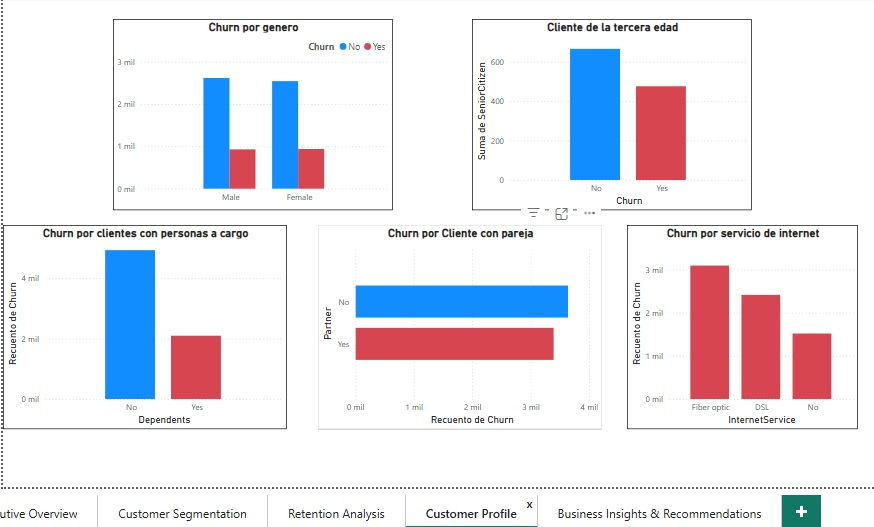

The page's visual inventory and layout, read from the dashboard file:
{"tool":"powerbi","page":{"name":"Customer Profile","canvas":[1280,720],"ordinal":3},"visuals":[{"type":"clusteredColumnChart","title":"Churn por genero","fields":{"Category":["churn_limpio.gender"],"Series":["churn_limpio.Churn"],"Y":["CountNonNull(churn_limpio.customerID)"]},"box":[161.6,32.3,411.4,280.7],"z":0},{"type":"clusteredColumnChart","title":"Cliente de la tercera edad","fields":{"Y":["Sum(churn_limpio.SeniorCitizen)"],"Category":["churn_limpio.Churn"]},"box":[689.1,32.3,411.4,280.7],"z":1000},{"type":"clusteredColumnChart","title":"Churn por clientes con personas a cargo","fields":{"Category":["churn_limpio.Dependents"],"Y":["CountNonNull(churn_limpio.Churn)"]},"box":[0,335,417.3,299.8],"z":2000},{"type":"clusteredBarChart","title":"Churn por Cliente con pareja","fields":{"Category":["churn_limpio.Partner"],"Y":["CountNonNull(churn_limpio.Churn)"]},"box":[462.9,335,417.3,299.8],"z":3000},{"type":"clusteredColumnChart","title":"Churn por servicio de internet","fields":{"Category":["churn_limpio.InternetService"],"Y":["CountNonNull(churn_limpio.Churn)"]},"box":[916.9,335,339.4,299.8],"z":4000}]}

Visuals, with their boxes on the page's 1280x720 design canvas (x1, y1, x2, y2). These are canvas units, not pixel positions in the 874x527 screenshot, which may show the page scaled, cropped or inside an application window:
"Churn por genero" clusteredColumnChart: bbox=[162, 32, 573, 313]
"Cliente de la tercera edad" clusteredColumnChart: bbox=[689, 32, 1100, 313]
"Churn por clientes con personas a cargo" clusteredColumnChart: bbox=[0, 335, 417, 635]
"Churn por Cliente con pareja" clusteredBarChart: bbox=[463, 335, 880, 635]
"Churn por servicio de internet" clusteredColumnChart: bbox=[917, 335, 1256, 635]
